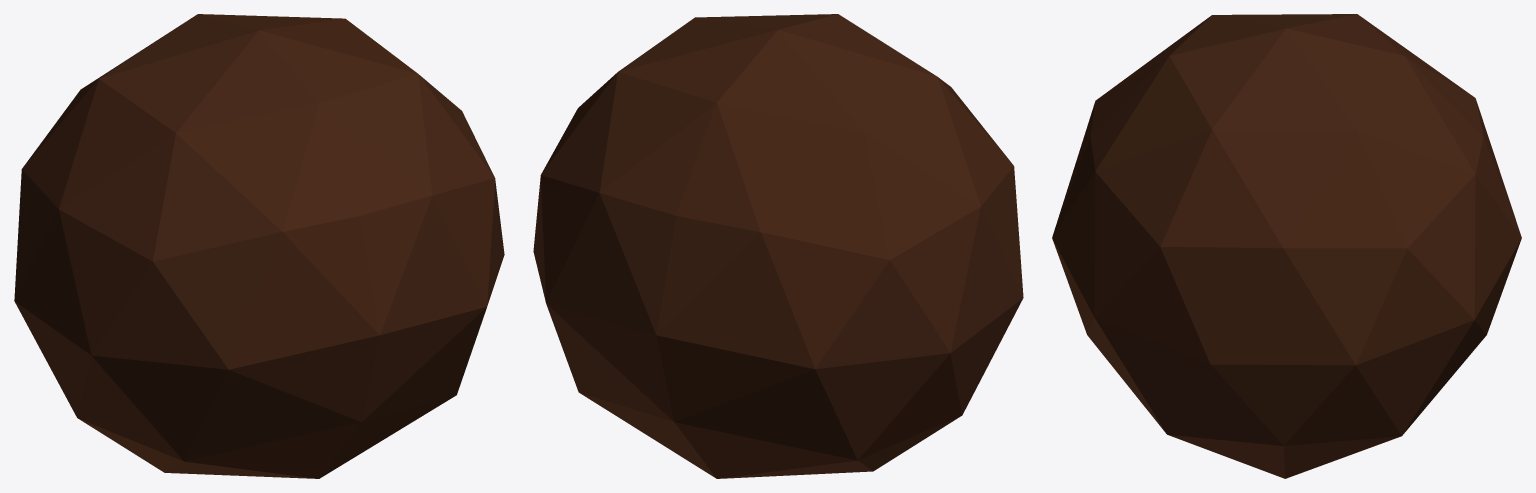
The model's file is Coconut.obj.
3 views of the same model, side by side, from view 1: azimuth 30°, elevation 25°; view 2: azimuth 150°, elevation 25°; view 3: azimuth 270°, elevation 25° (orthographic). The views are drawn at different scales.
Visible parts, largest first — view 1: Coconut; view 2: Coconut; view 3: Coconut.
Boxes of the visible parts, box(x1,y1,x2,y2) form: Coconut: box(14, 14, 504, 478); Coconut: box(533, 14, 1023, 478); Coconut: box(1052, 14, 1521, 478).
Size of the model in its own units: 0.7777 by 0.7769 by 0.7834.
